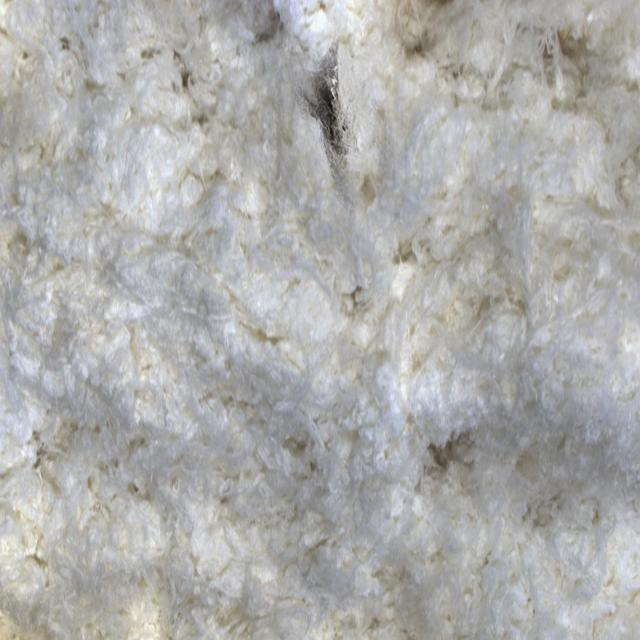dust: (253, 15, 402, 214)
